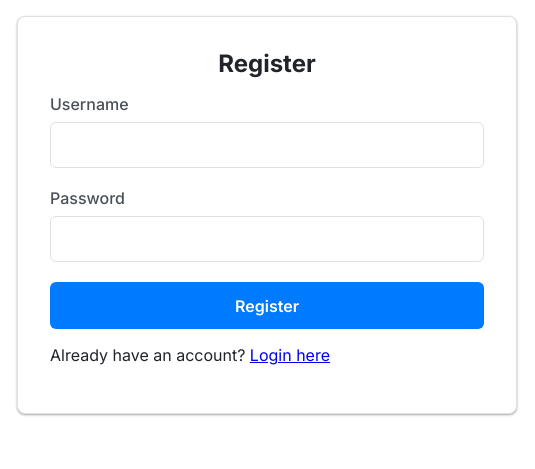
Scenario: Register Page › displays error on failed registration from service
Type "newuser" into the field labelled "Username" at (267, 145), box [50,122,484,168]
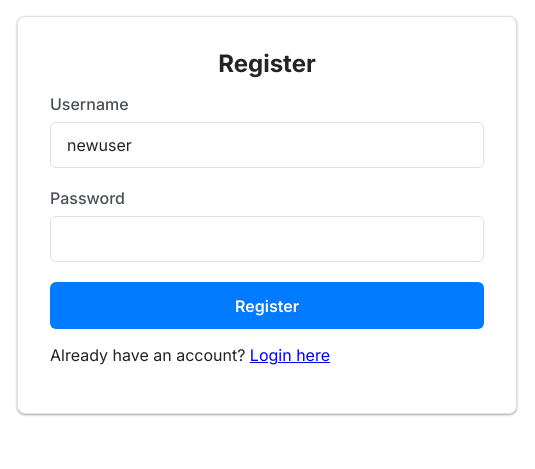
Type "pass123" into the password field labelled "Password" at (267, 239), box [50,216,484,262]
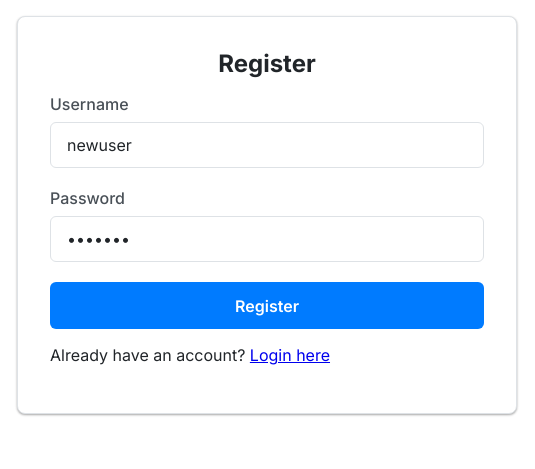
Click the button "Register" at (267, 306), box [50,282,484,329]
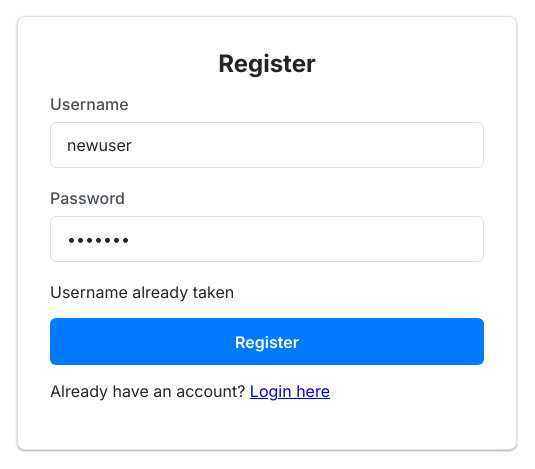
Expected: the text "Username already taken" is shown, [50,282,234,302]
